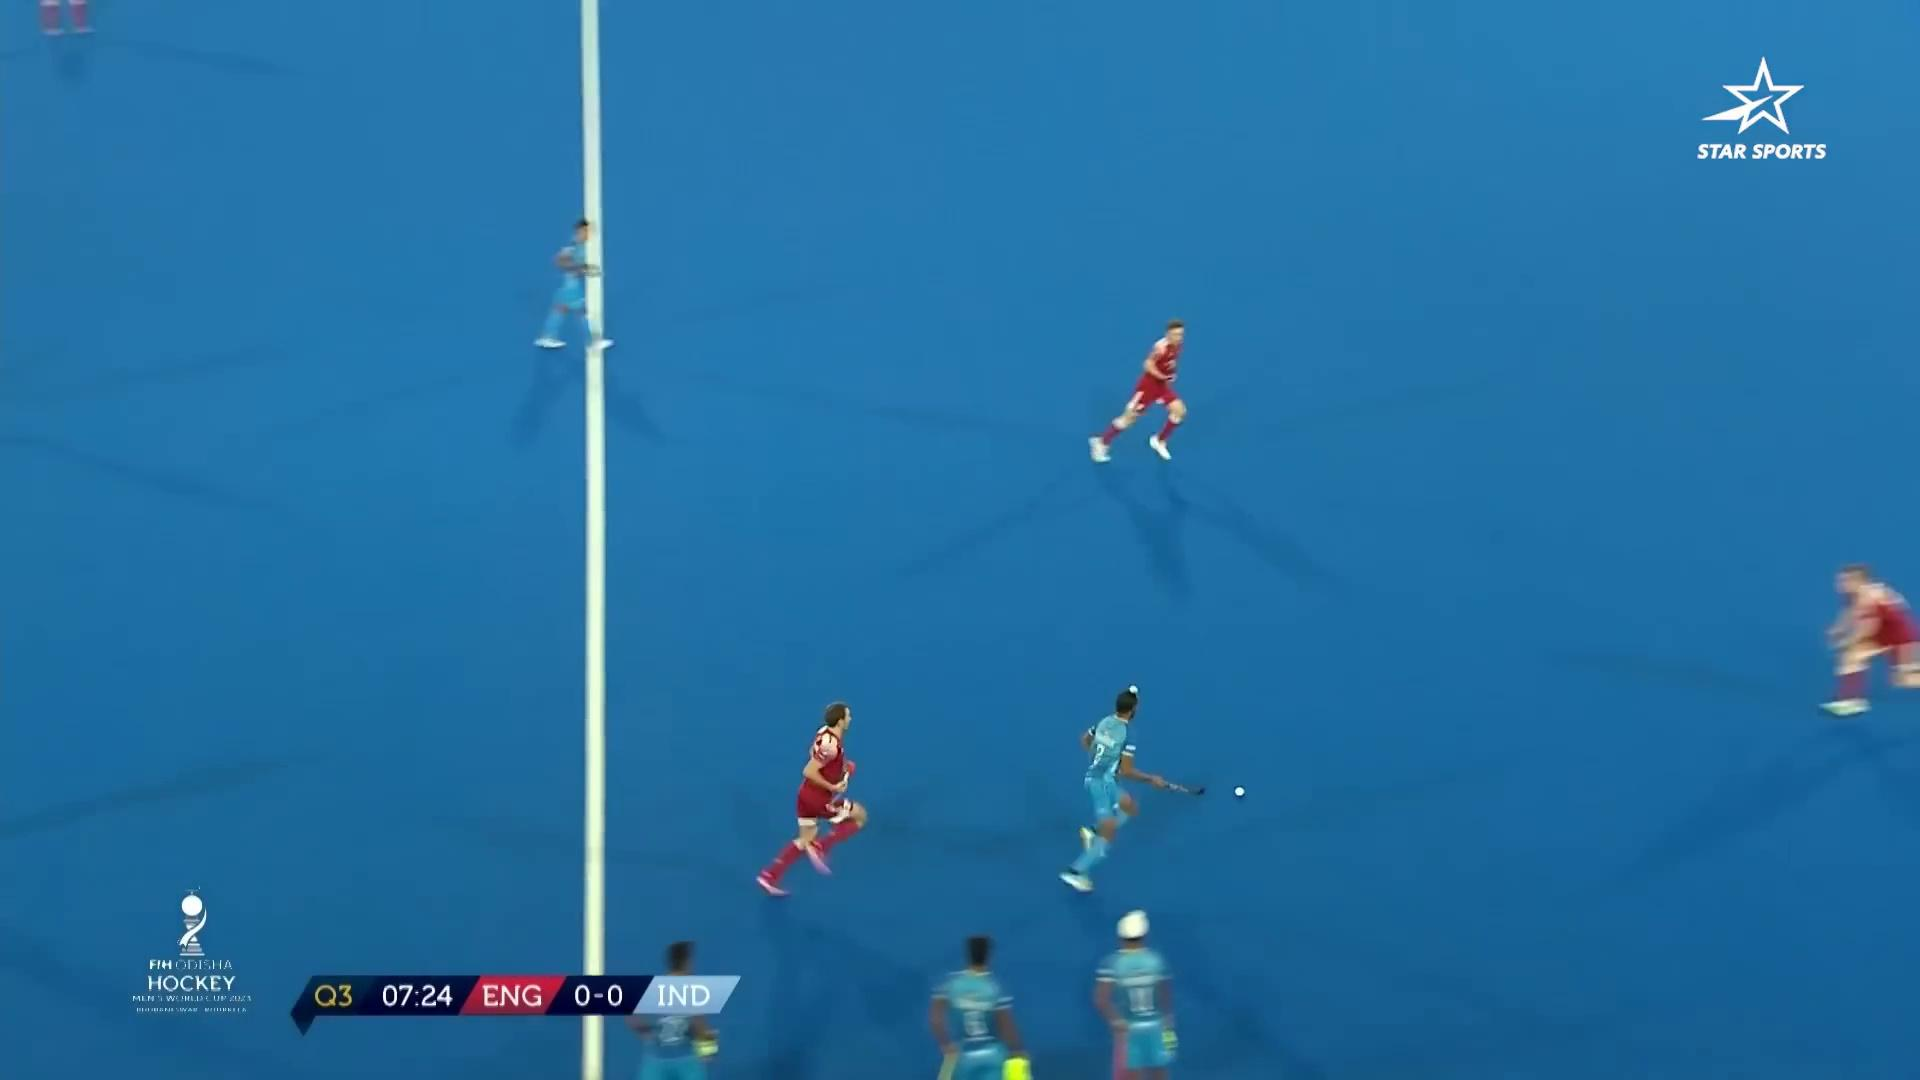ball: (1221, 774, 1259, 806)
